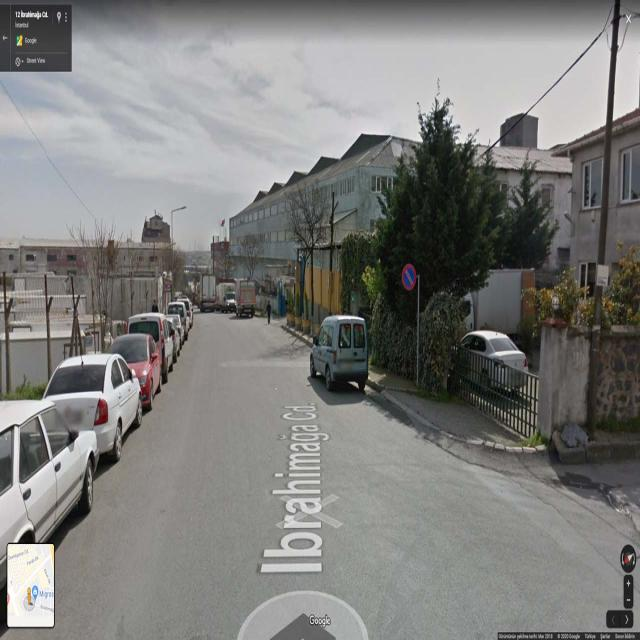parkyasak: (400, 263, 418, 292)
